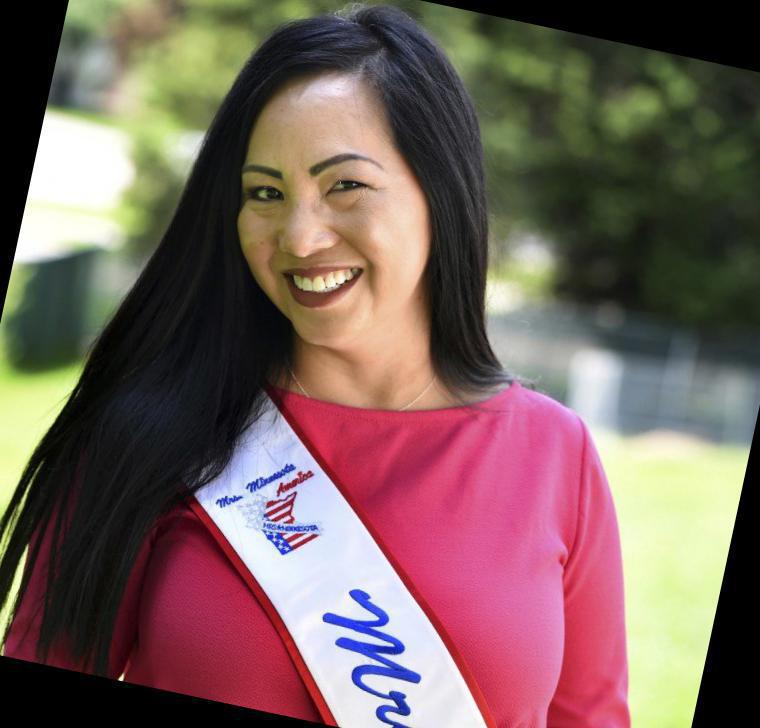Sober: (241, 87, 433, 344)
